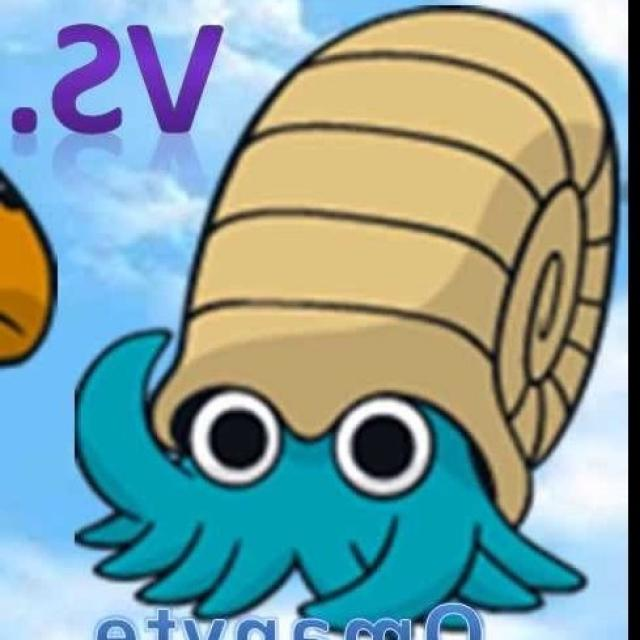Omanyte: (77, 18, 615, 620)
